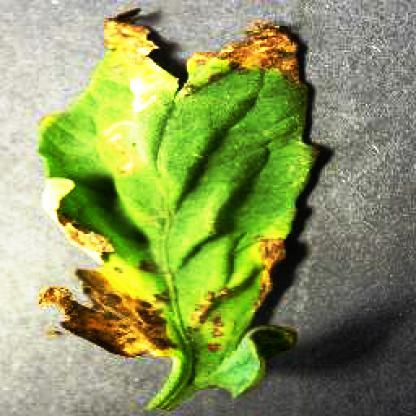BACTERIAL SPOT: (33, 11, 325, 414)
